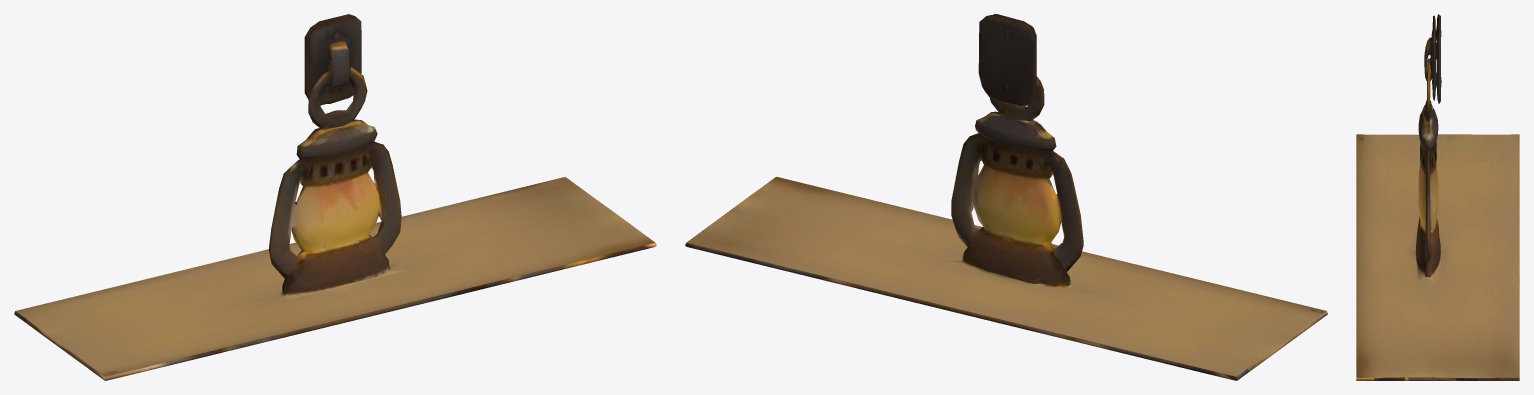
The model's file is lantern.glb.
3 renders of one model, left to right at view 1: azimuth 30°, elevation 25°; view 2: azimuth 150°, elevation 25°; view 3: azimuth 270°, elevation 25°, orthographic. The views are drawn at different scales.
Parts seen in each view (by area): view 1: textured_mesh.obj; view 2: textured_mesh.obj; view 3: textured_mesh.obj.
Boxes of the visible parts, x1,y1,x2,y2 form: textured_mesh.obj: (14,14,656,380); textured_mesh.obj: (685,14,1327,380); textured_mesh.obj: (1356,14,1519,380).
Size of what is drawn, in the model's own units: 1.41 by 0.65 by 0.4.
1 material, 1 textured.
